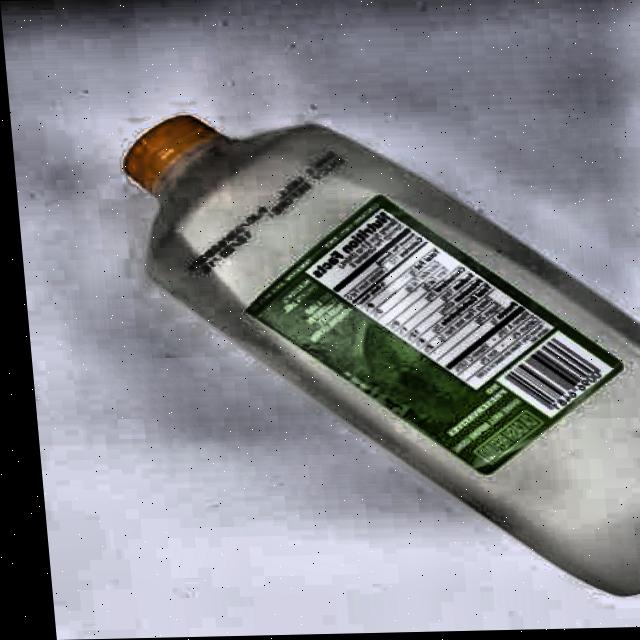plastic: (113, 101, 640, 607)
